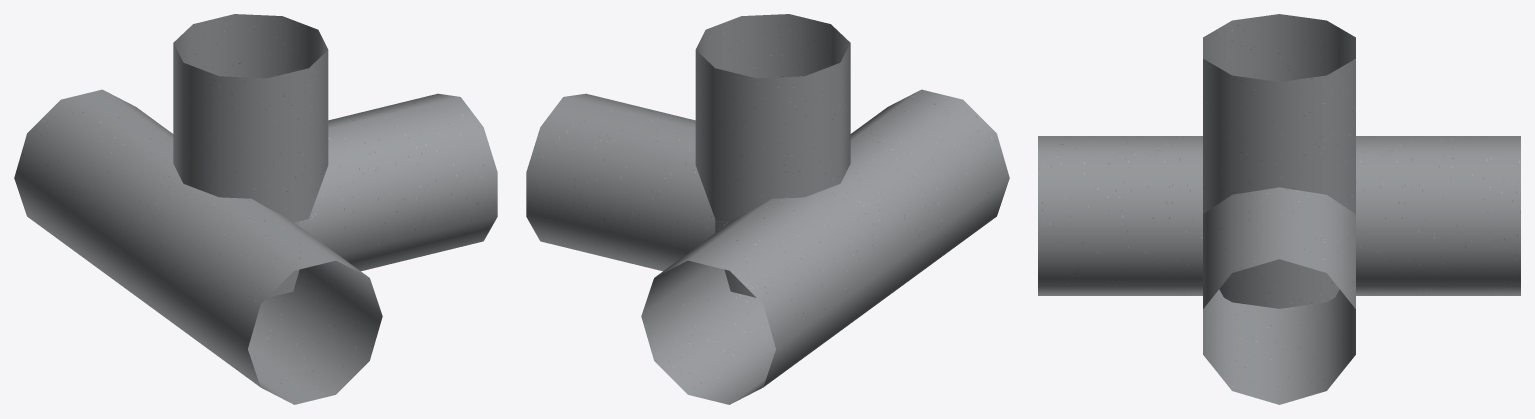
File: tetrapod_seawall.glb
The picture shows the model from 3 angles, left to right: view 1: azimuth 30°, elevation 25°; view 2: azimuth 150°, elevation 25°; view 3: azimuth 270°, elevation 25°; orthographic projection. The views are drawn at different scales.
Visible parts, largest first — view 1: TetrapodMesh; view 2: TetrapodMesh; view 3: TetrapodMesh.
Part boxes in pixels (<box>): TetrapodMesh: <box>14,14,497,404</box>; TetrapodMesh: <box>526,14,1009,404</box>; TetrapodMesh: <box>1038,14,1520,404</box>.
Size of the model in its own units: 2.2 by 1.63 by 2.7.
1 material, 1 textured.
